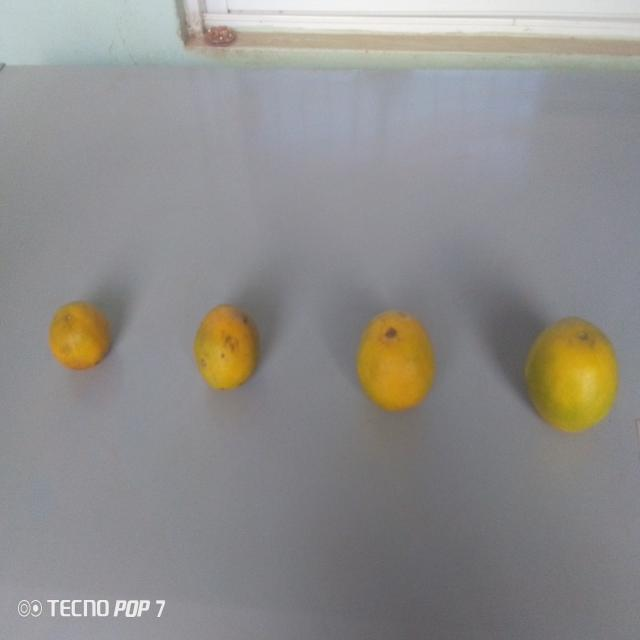Ripe orange: (520, 312, 616, 446), (353, 306, 440, 419), (190, 300, 267, 398), (45, 292, 116, 384)
